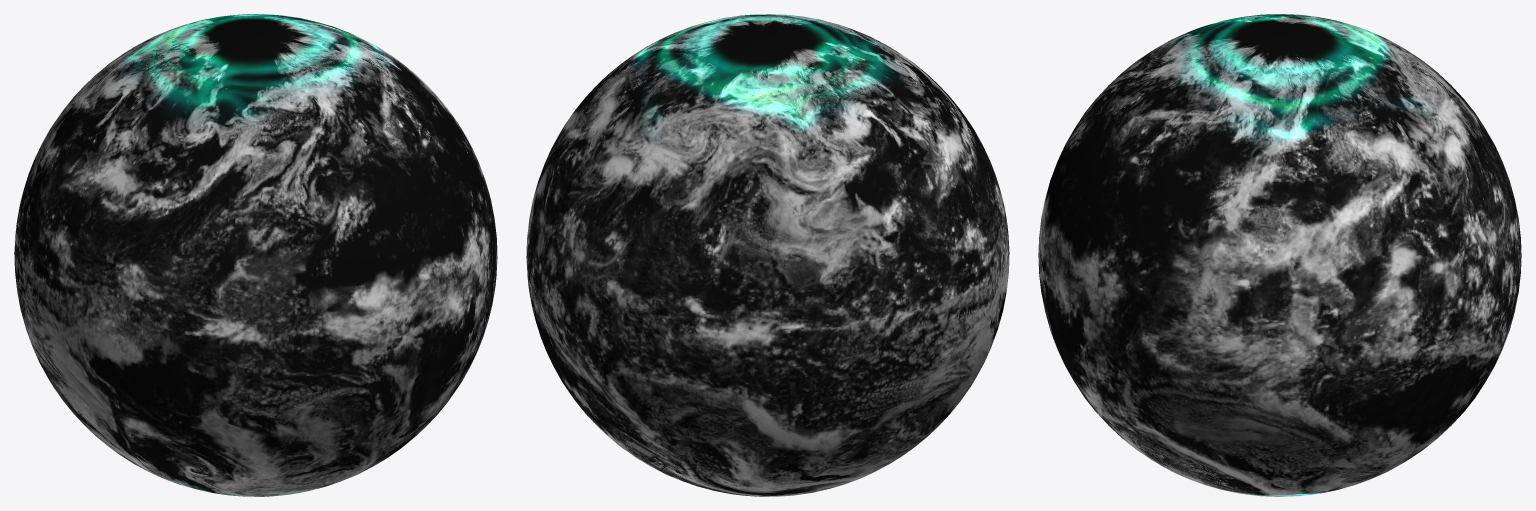
File: Earth.fbx
3 renders of one model, left to right at view 1: azimuth 30°, elevation 25°; view 2: azimuth 150°, elevation 25°; view 3: azimuth 270°, elevation 25°, orthographic.
Parts seen in each view (by area): view 1: 65; view 2: 65; view 3: 65.
Part boxes in pixels (x1=…): 65: x1=14, y1=14, x2=497, y2=496; 65: x1=526, y1=14, x2=1009, y2=496; 65: x1=1038, y1=14, x2=1521, y2=496.
Bounding box in the file's own units: 1.28 × 1.28 × 1.28.
